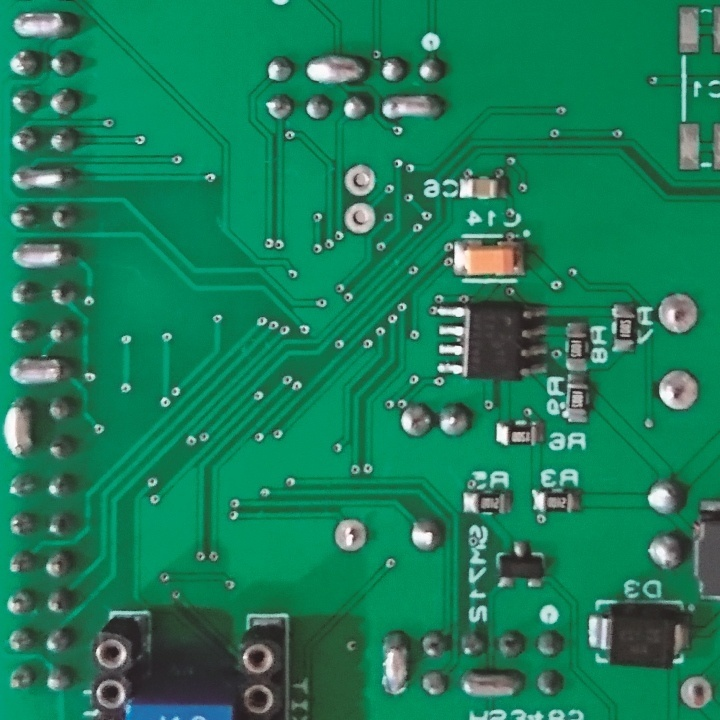F: (654, 291, 701, 338), (655, 366, 702, 412), (678, 672, 717, 715), (330, 516, 371, 554), (342, 200, 379, 237), (341, 163, 378, 198)
P: (377, 627, 413, 701), (10, 6, 81, 43), (7, 352, 74, 389), (1, 395, 38, 460), (377, 91, 446, 124), (304, 52, 370, 86), (9, 163, 79, 195), (10, 238, 77, 271), (459, 666, 525, 698)
